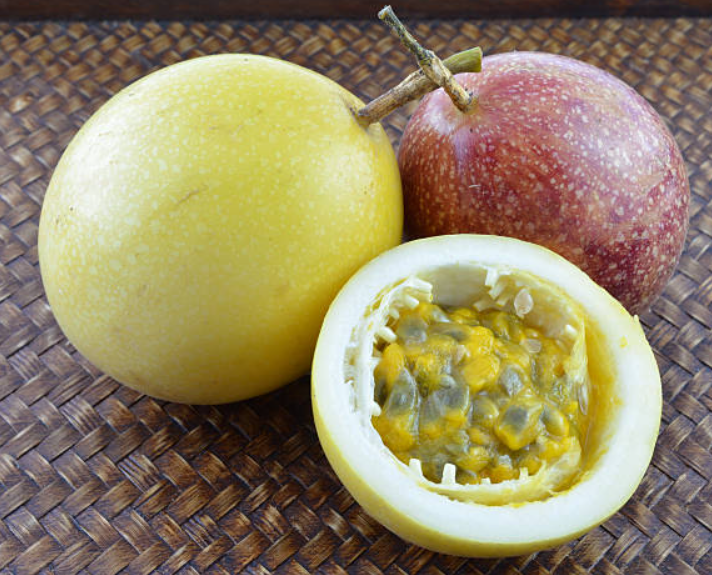maracuya: (31, 45, 415, 410)
